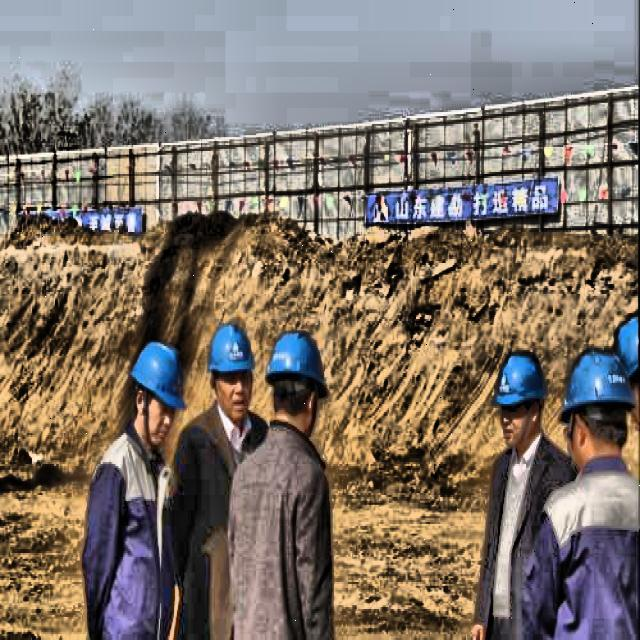helmet: (556, 342, 630, 468), (266, 329, 328, 439), (118, 340, 182, 442), (492, 346, 546, 454), (208, 321, 255, 421), (613, 307, 639, 445)
